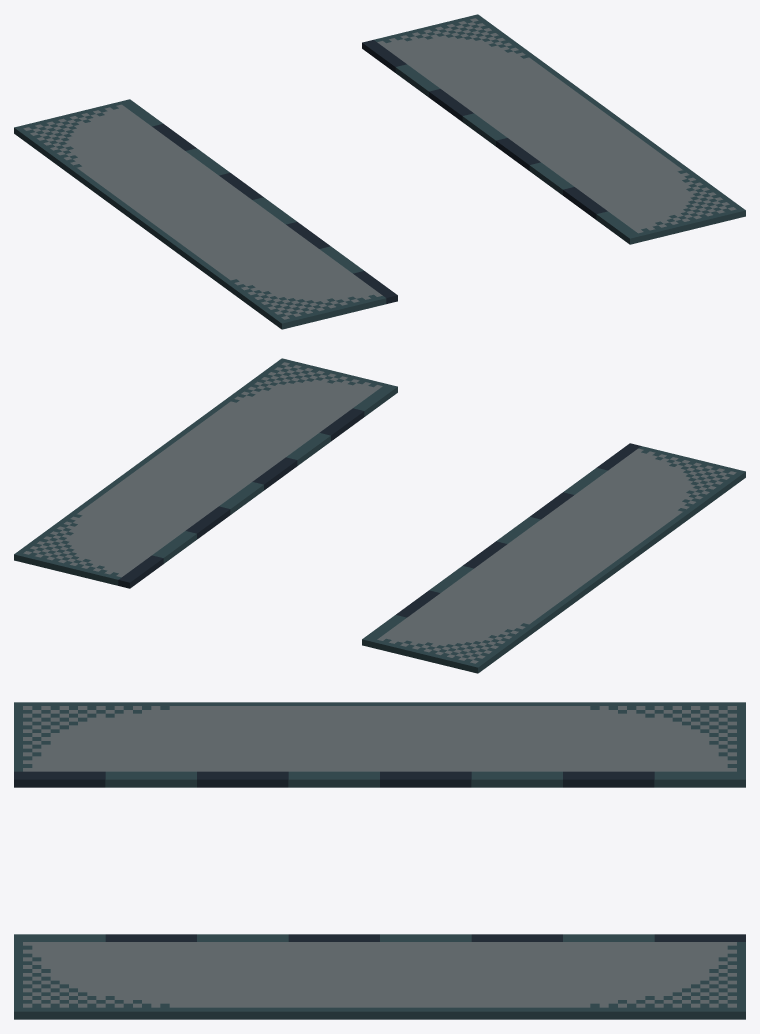
File: road_1_overtile.obj
3 views of the same model, one above another, from view 1: azimuth 30°, elevation 25°; view 2: azimuth 150°, elevation 25°; view 3: azimuth 270°, elevation 25° (orthographic). The views are drawn at different scales.
Size of the model in its own units: 8 by 0.1 by 8.
1 material, 1 textured.
